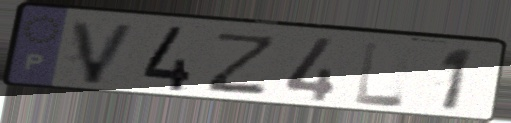1: (433, 46, 476, 112)
4: (281, 34, 340, 105), (140, 24, 194, 94)
L: (353, 39, 408, 109)
V: (68, 18, 140, 87)
Z: (202, 30, 282, 96)
